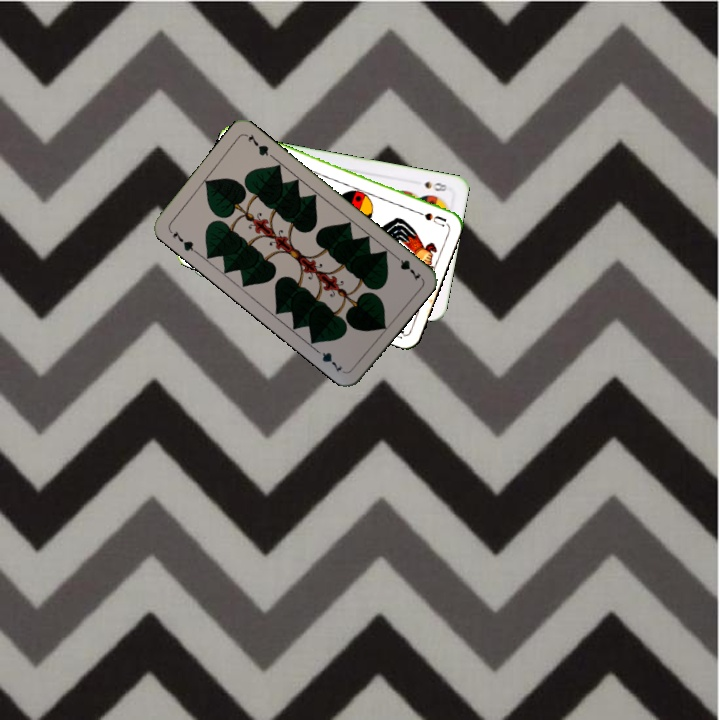G7: (389, 250, 424, 283), (165, 226, 200, 256)
S8: (420, 177, 453, 194)
SU: (408, 205, 449, 229)
